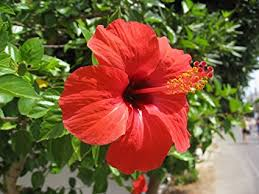hybiscus: (61, 20, 214, 175)
